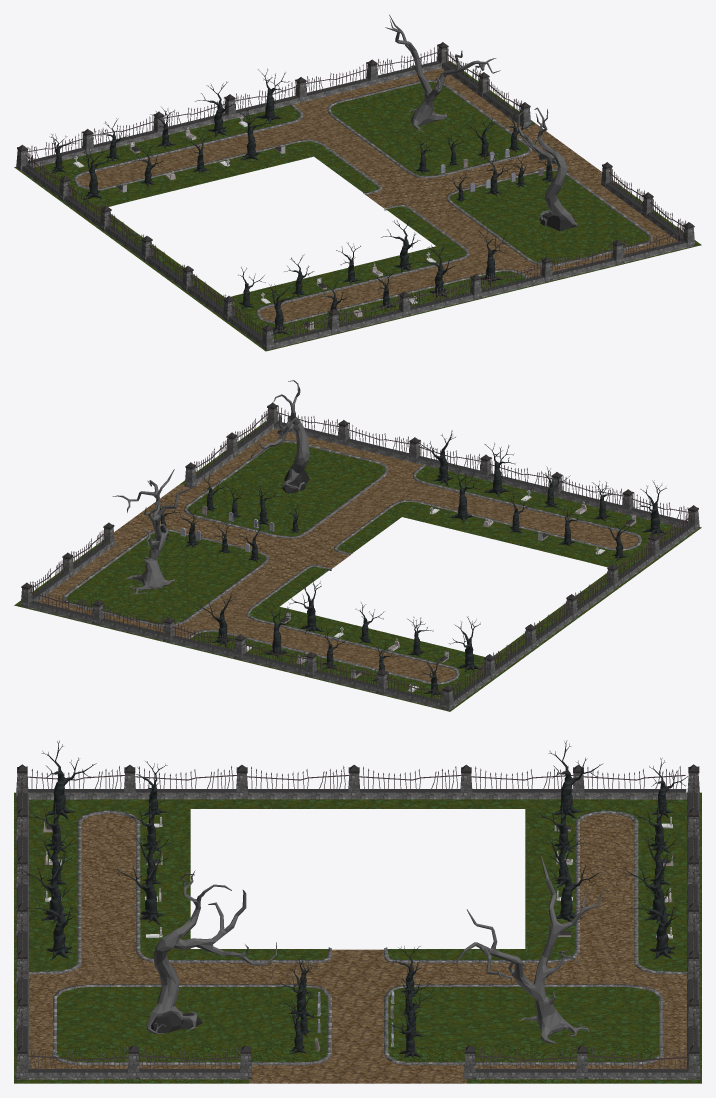
File: fence.glb
3 renders of one model, top to bottom at view 1: azimuth 30°, elevation 25°; view 2: azimuth 150°, elevation 25°; view 3: azimuth 270°, elevation 25°, orthographic. The views are drawn at different scales.
Visible parts, largest first — view 1: grass.001, gravel, Ext_RejaLapidas_Cube.005, walkway_curb, Ext_RejaLapidas_Cube.001, HWN20_Tree_06, HWN20_Tree_09, ColumnB.009, ColumnB.000; view 2: grass.001, gravel, Ext_RejaLapidas_Cube.005, walkway_curb, Ext_RejaLapidas_Cube.001, HWN20_Tree_09, HWN20_Tree_06, ColumnB.009, ColumnB.000; view 3: grass.001, gravel, Ext_RejaLapidas_Cube.001, walkway_curb, Ext_RejaLapidas_Cube.005, HWN20_Tree_06, HWN20_Tree_09, ColumnB.000, ColumnB.009, HWN20_Tree_01.008, HWN20_Tree_01.013, HWN20_Tree_01.022 (+9 smaller).
Boxes of the visible parts, x1,y1,x2,y2 form: grass.001: [14, 61, 701, 351]; gravel: [77, 68, 677, 321]; Ext_RejaLapidas_Cube.005: [21, 45, 686, 348]; walkway_curb: [74, 80, 652, 323]; Ext_RejaLapidas_Cube.001: [21, 149, 266, 346]; HWN20_Tree_06: [517, 107, 577, 231]; HWN20_Tree_09: [385, 14, 500, 131]; ColumnB.009: [604, 182, 683, 241]; ColumnB.000: [442, 62, 518, 122]; grass.001: [14, 421, 701, 711]; gravel: [38, 428, 638, 682]; Ext_RejaLapidas_Cube.005: [29, 405, 694, 708]; walkway_curb: [63, 440, 641, 684]; Ext_RejaLapidas_Cube.001: [452, 507, 694, 706]; HWN20_Tree_09: [112, 469, 196, 594]; HWN20_Tree_06: [250, 380, 309, 493]; ColumnB.009: [195, 422, 273, 485]; ColumnB.000: [32, 542, 110, 601]; grass.001: [14, 792, 701, 1083]; gravel: [28, 813, 687, 1083]; Ext_RejaLapidas_Cube.001: [26, 764, 687, 799]; walkway_curb: [28, 810, 687, 1074]; Ext_RejaLapidas_Cube.005: [16, 773, 699, 1068]; HWN20_Tree_06: [146, 870, 276, 1033]; HWN20_Tree_09: [450, 855, 604, 1044]; ColumnB.000: [476, 1069, 688, 1079]; ColumnB.009: [28, 1069, 239, 1079]; HWN20_Tree_01.008: [628, 884, 678, 959]; HWN20_Tree_01.013: [25, 884, 75, 959]; HWN20_Tree_01.022: [114, 849, 167, 924].
Size of what is drawn, in the model's own units: 79.8 by 19.6 by 79.8.
Materials: 14 (14 with a texture image).
